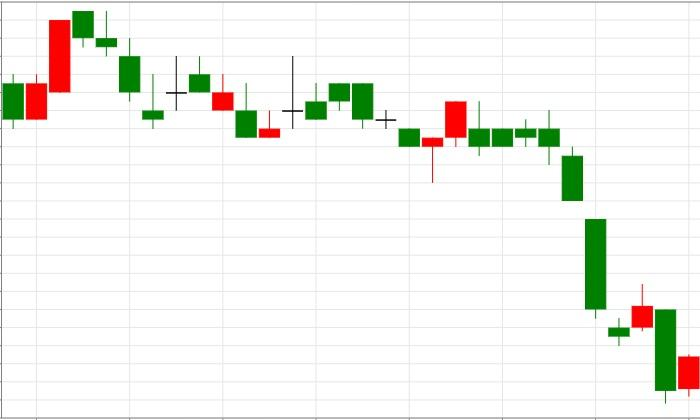morning_star_rise: (469, 101, 653, 346)
